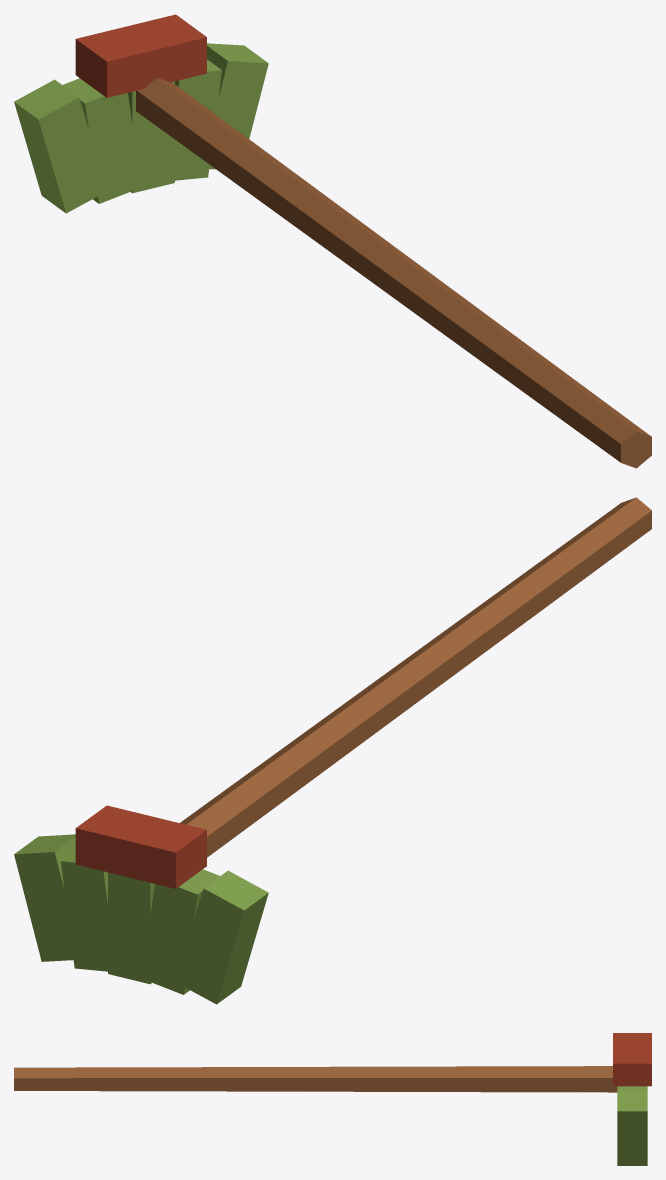
File: hoki.glb
3 views of the same model, one above another, from view 1: azimuth 30°, elevation 25°; view 2: azimuth 150°, elevation 25°; view 3: azimuth 270°, elevation 25° (orthographic). The views are drawn at different scales.
Visible parts, largest first — view 1: Head, Handle; view 2: Head, Handle; view 3: Handle, Head.
Boxes of the visible parts, left/top/right/bottom form: Head: left=14, top=14, right=268, bottom=213; Handle: left=136, top=78, right=651, bottom=468; Head: left=14, top=805, right=268, bottom=1004; Handle: left=180, top=497, right=651, bottom=857; Handle: left=14, top=1066, right=617, bottom=1092; Head: left=613, top=1033, right=651, bottom=1165.
Bounding box in the file's own units: 11.95 × 7.2 × 45.9.
